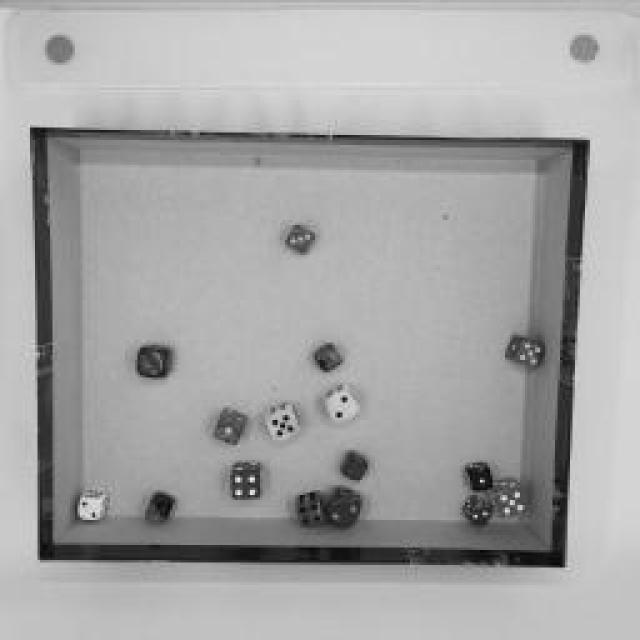dice_1: (454, 459, 501, 496), (210, 405, 250, 447), (336, 446, 379, 484), (310, 336, 350, 376)
dice_2: (322, 383, 372, 425), (328, 485, 368, 530), (74, 482, 108, 522), (463, 496, 495, 529)
dice_3: (127, 334, 175, 391), (282, 216, 320, 262)
dice_4: (225, 458, 265, 504), (289, 482, 326, 528)
dice_5: (260, 397, 308, 445), (506, 325, 554, 370), (488, 475, 534, 520), (142, 490, 182, 528)
